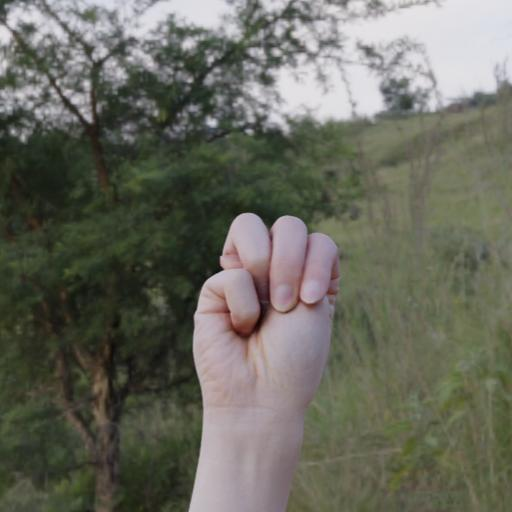M: (153, 204, 360, 512)
